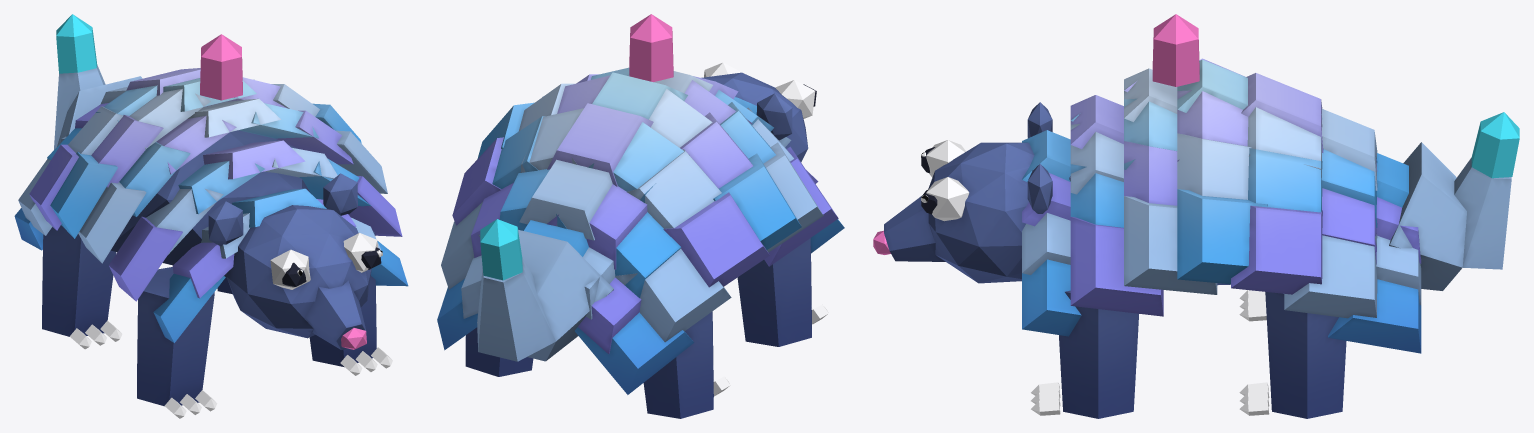
The model's file is CrystalPangolin.fbx.
3 renders of one model, left to right at view 1: azimuth 30°, elevation 25°; view 2: azimuth 150°, elevation 25°; view 3: azimuth 270°, elevation 25°, orthographic. The views are drawn at different scales.
Visible parts, largest first — view 1: CrystalPangolin_Body, RFLeg.002, RHLeg.002, LFLeg.002; view 2: CrystalPangolin_Body, RFLeg.002, RHLeg.002, LHLeg.002; view 3: CrystalPangolin_Body, LHLeg.002, LFLeg.002, RHLeg.002.
Boxes of the visible parts, x1=… form: CrystalPangolin_Body: x1=14, y1=14, x2=408, y2=349; RFLeg.002: x1=137, y1=267, x2=217, y2=418; RHLeg.002: x1=42, y1=225, x2=122, y2=349; LFLeg.002: x1=309, y1=231, x2=392, y2=375; CrystalPangolin_Body: x1=437, y1=14, x2=844, y2=394; RFLeg.002: x1=737, y1=238, x2=828, y2=346; RHLeg.002: x1=643, y1=311, x2=730, y2=418; LHLeg.002: x1=465, y1=327, x2=533, y2=376; CrystalPangolin_Body: x1=873, y1=14, x2=1519, y2=353; LHLeg.002: x1=1239, y1=292, x2=1346, y2=418; LFLeg.002: x1=1031, y1=290, x2=1138, y2=418; RHLeg.002: x1=1239, y1=290, x2=1266, y2=321.
Size of the model in its own units: 3.96 by 3.94 by 6.66.
1 material, 1 textured.
